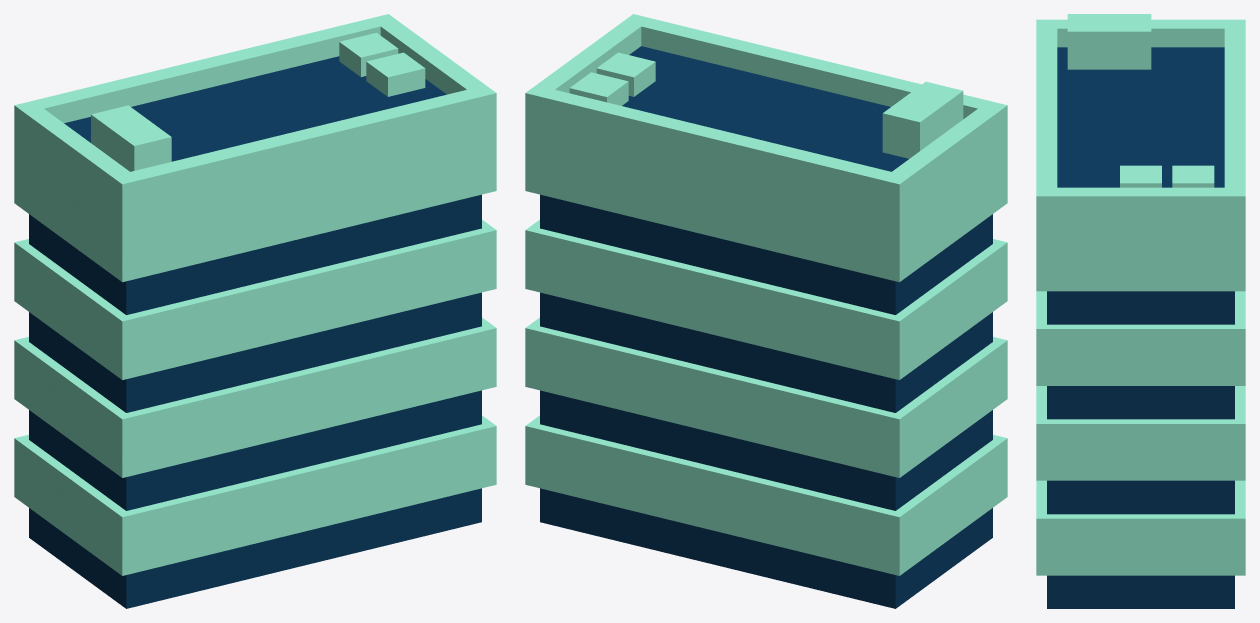
Rendered from building_a.glb.
3 renders of one model, left to right at view 1: azimuth 30°, elevation 25°; view 2: azimuth 150°, elevation 25°; view 3: azimuth 270°, elevation 25°, orthographic. The views are drawn at different scales.
Visible parts, largest first — view 1: low_wideA; view 2: low_wideA; view 3: low_wideA.
Boxes of the visible parts, x1,y1,x2,y2 form: low_wideA: [14, 14, 496, 608]; low_wideA: [525, 14, 1007, 608]; low_wideA: [1036, 14, 1245, 608].
Size of the model in its own units: 1 by 1.15 by 0.5.
